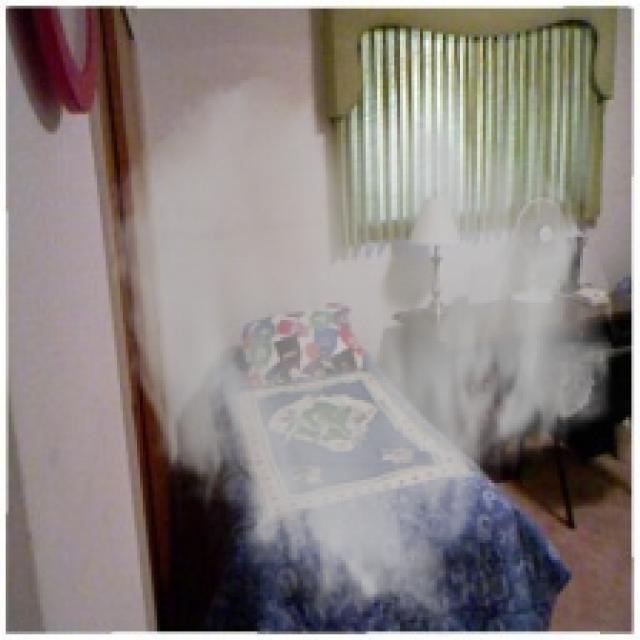Smoke: (103, 72, 623, 638)
